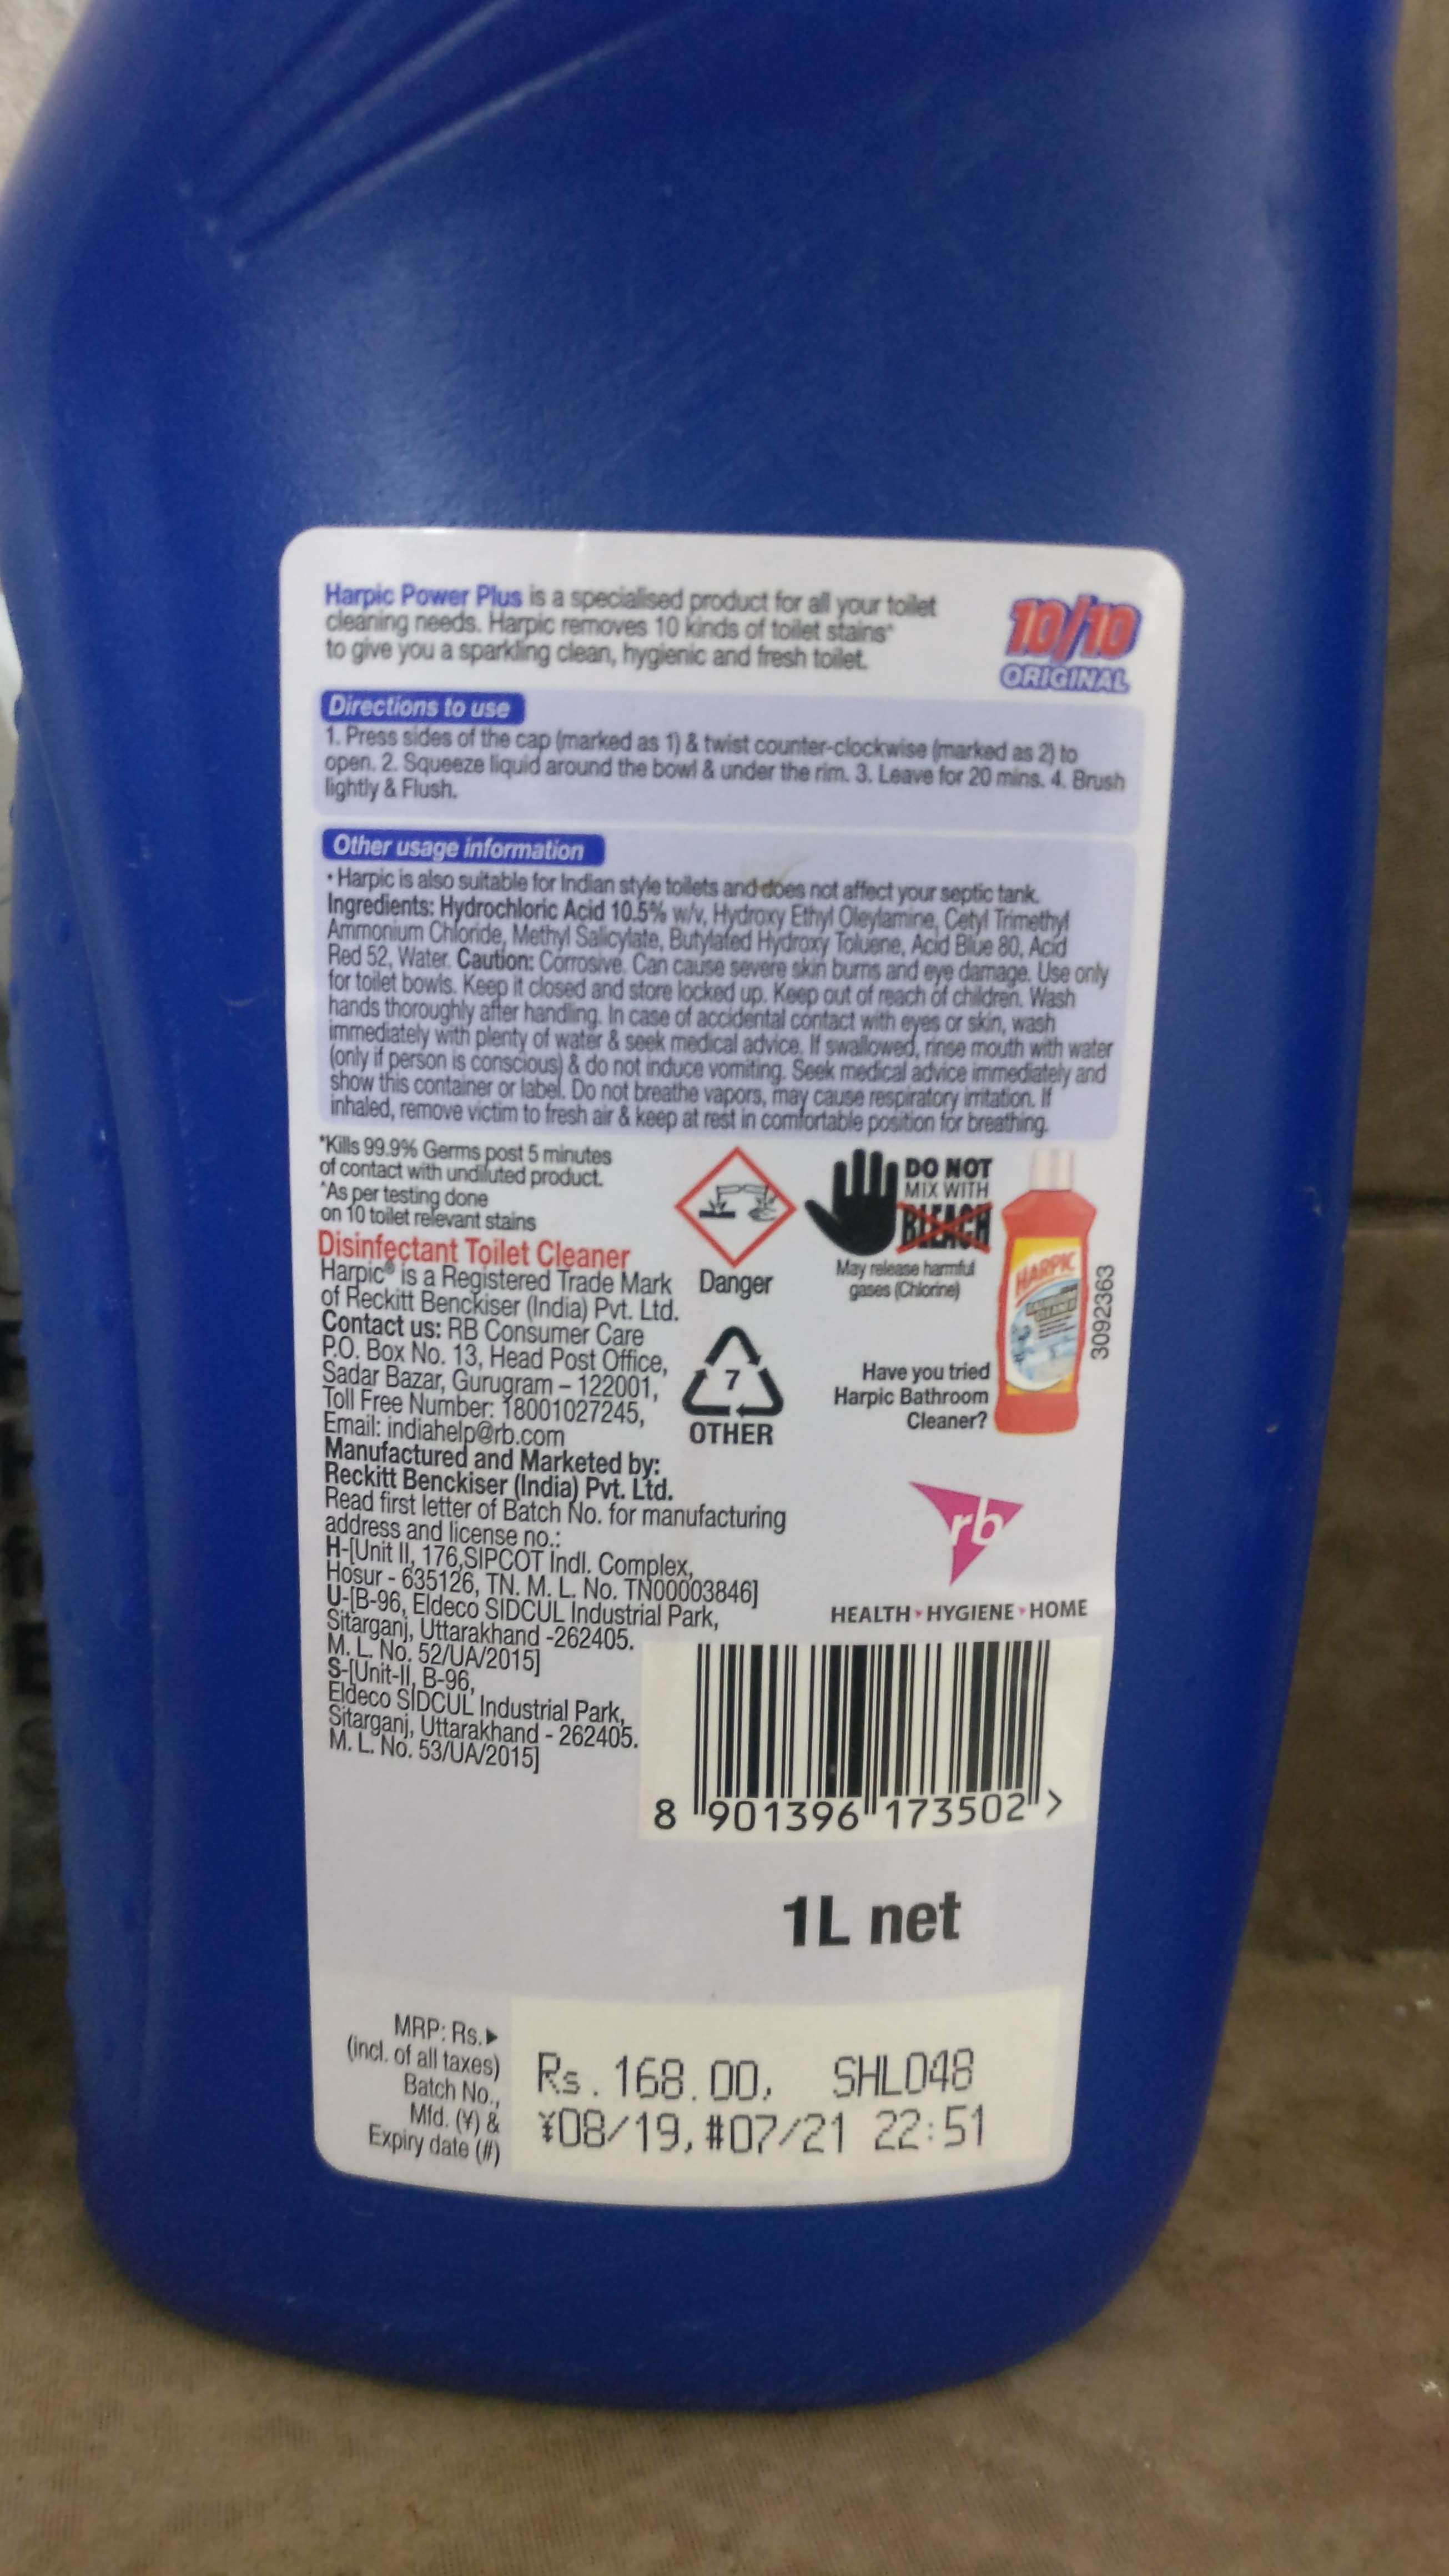barcode: (685, 1635, 1076, 1840)
